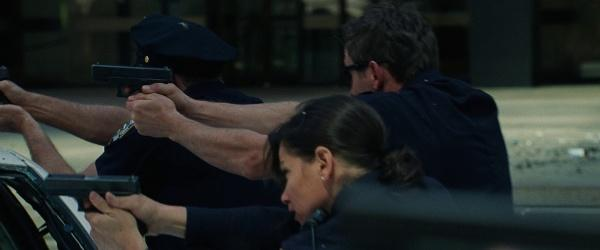Gun: (40, 172, 140, 210), (87, 67, 174, 97)
